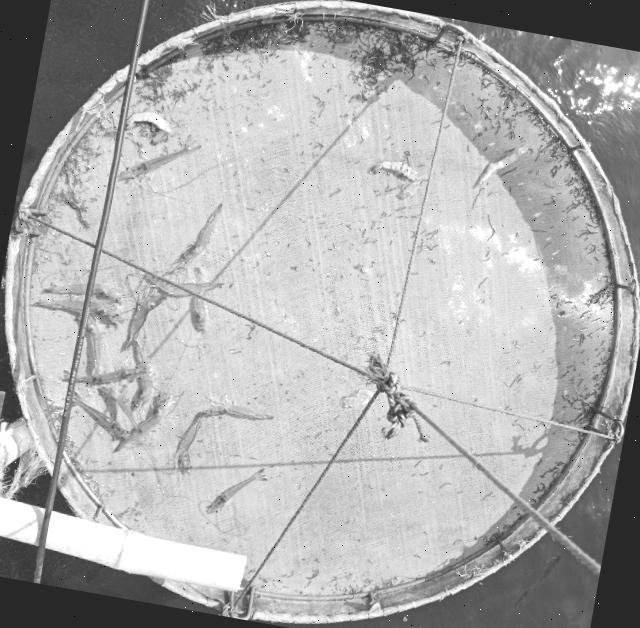shrimp: (121, 144, 201, 180), (72, 391, 128, 441), (176, 203, 222, 263), (207, 469, 267, 513), (124, 293, 169, 349), (33, 298, 125, 325), (474, 145, 530, 186), (126, 392, 169, 443), (175, 412, 207, 473), (97, 384, 137, 432), (146, 271, 222, 296), (42, 282, 121, 305), (131, 340, 151, 411), (201, 401, 272, 420), (370, 160, 426, 184), (61, 367, 140, 384), (78, 315, 101, 373), (125, 111, 168, 132), (193, 268, 206, 330)
